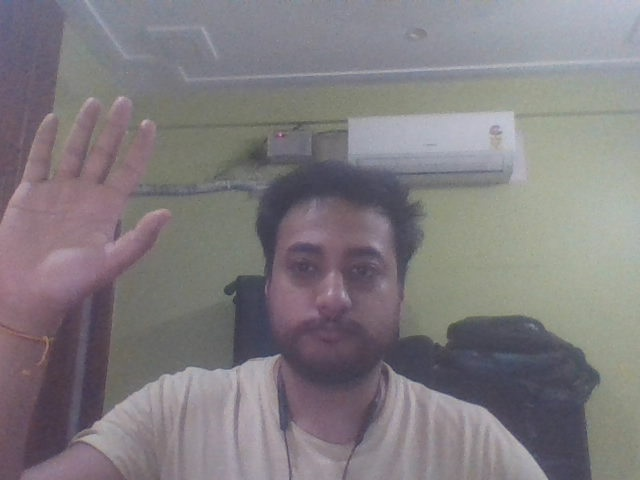Hello: (1, 87, 180, 332)
